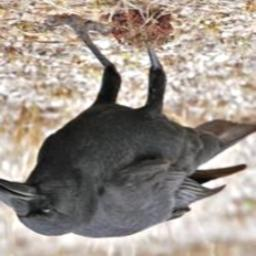Crow: (0, 15, 256, 239)
